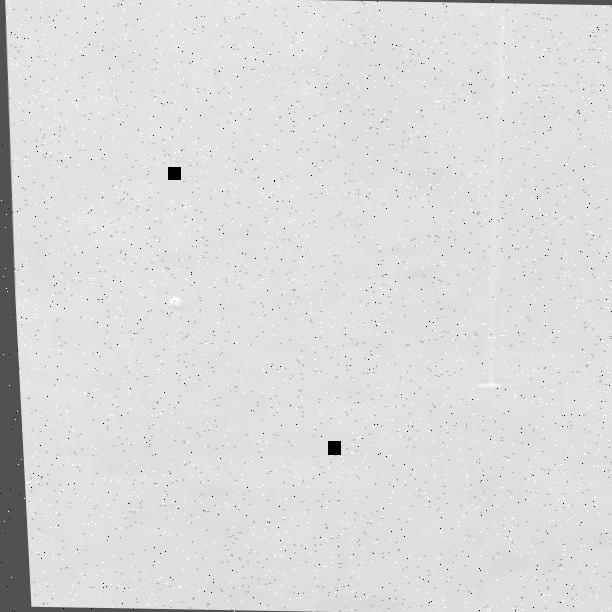GolfBall: (163, 292, 179, 310)
